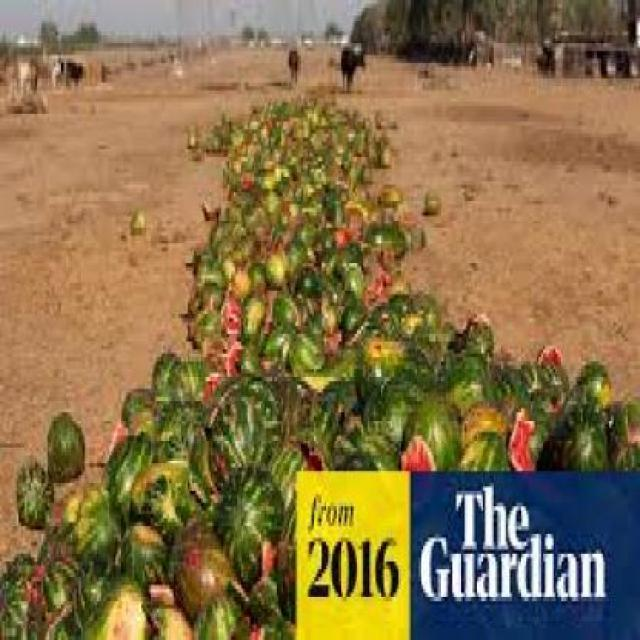garbage: (3, 105, 630, 640)
